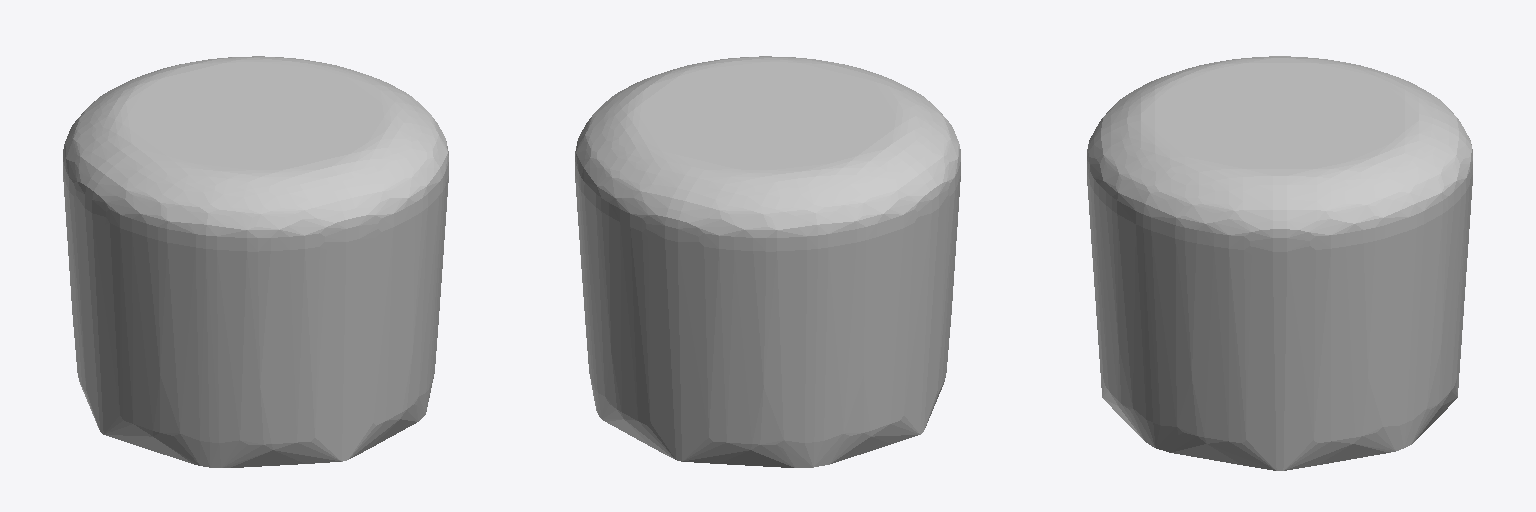
The model's file is Salt_Shaker_1_collision_0.obj.
3 views of the same model, side by side, from view 1: azimuth 30°, elevation 25°; view 2: azimuth 150°, elevation 25°; view 3: azimuth 270°, elevation 25° (orthographic).
Bounding box in the file's own units: 0.0291 × 0.0232 × 0.0291.